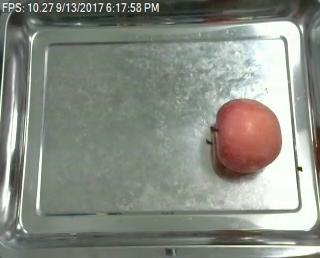apple: (214, 97, 283, 170)
